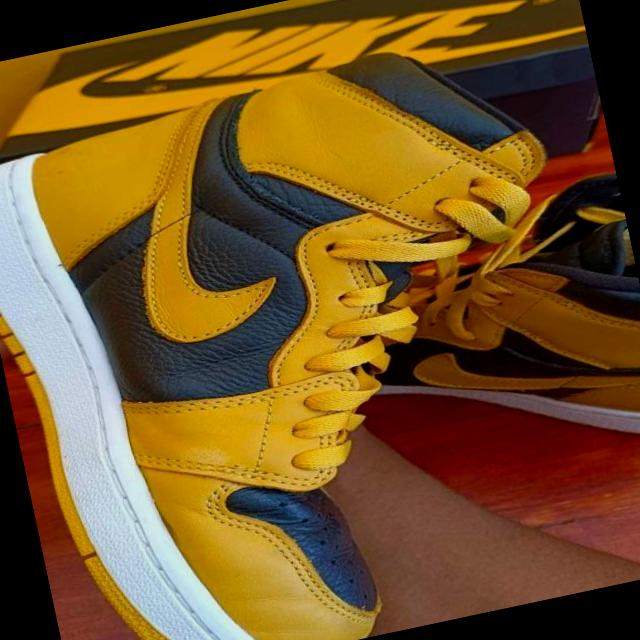nike_original_jordan: (0, 25, 625, 640)
